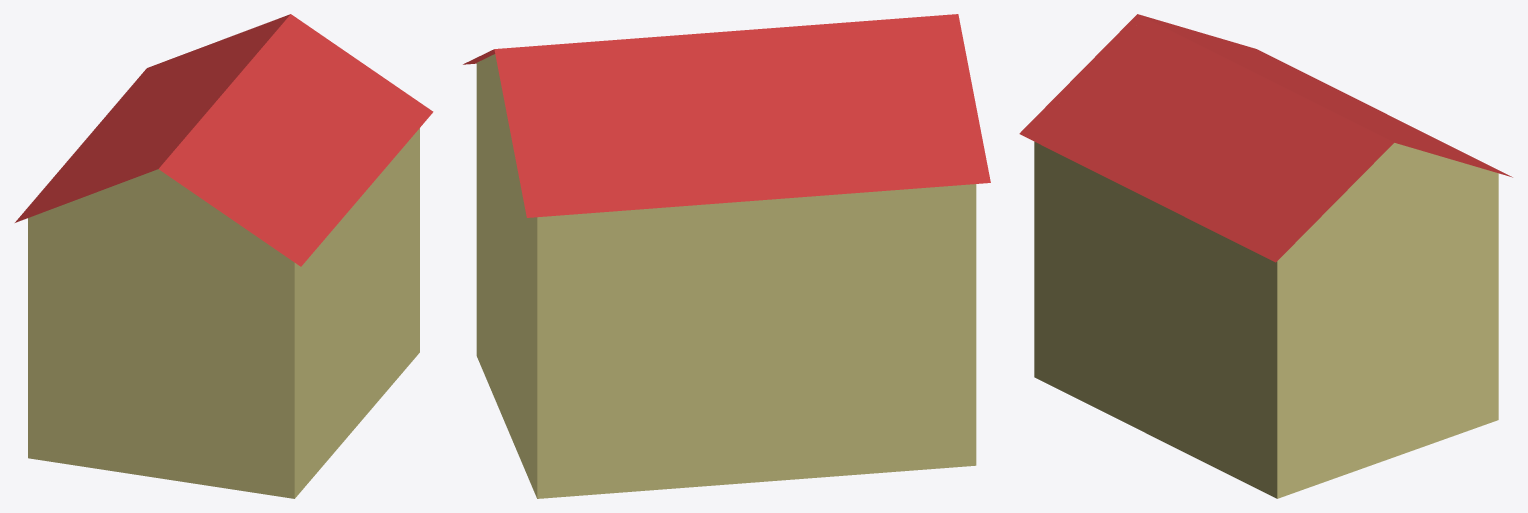
3 views of the same model, side by side, from view 1: azimuth 30°, elevation 25°; view 2: azimuth 150°, elevation 25°; view 3: azimuth 270°, elevation 25° (orthographic). The views are drawn at different scales.
Size of the model in its own units: 11.73 by 11.49 by 8.21.
